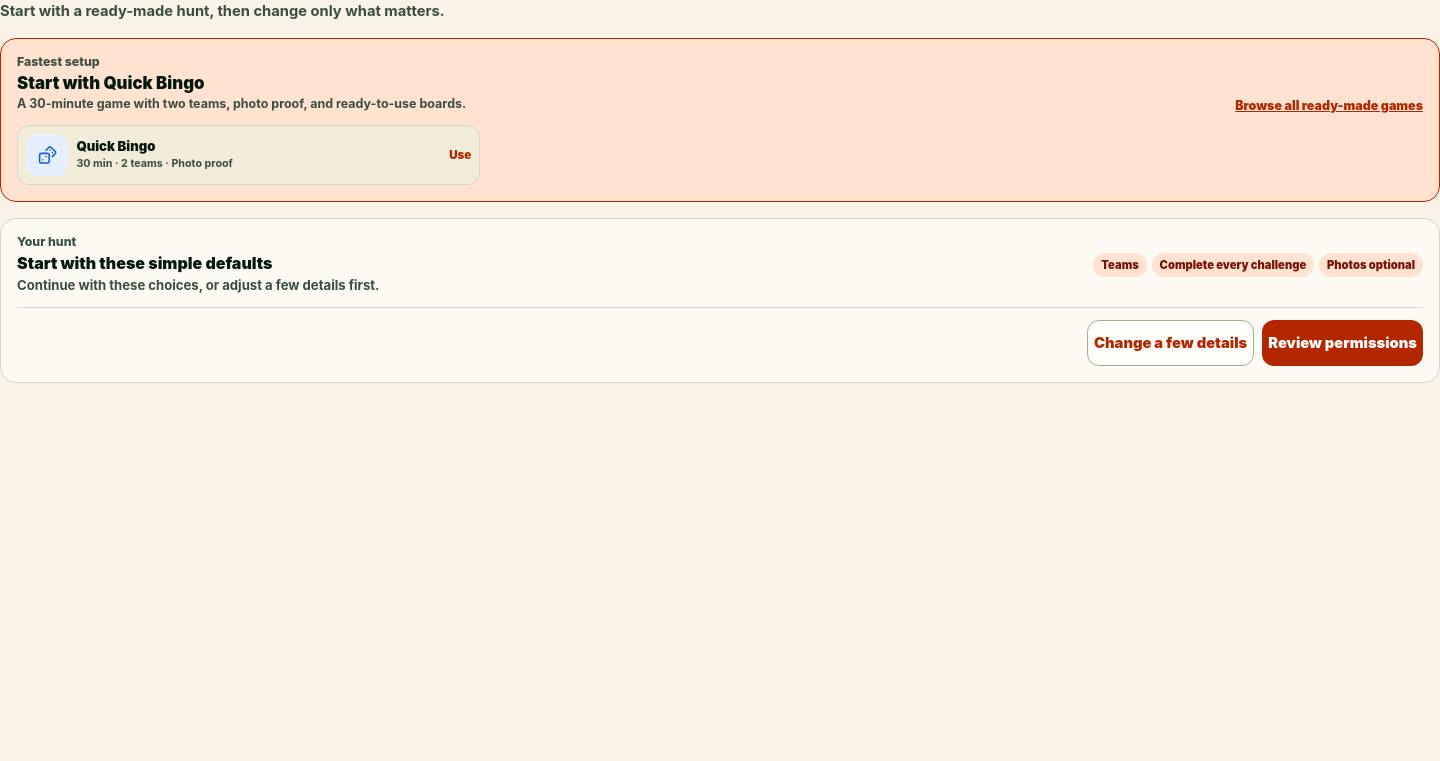
Scenario: focused interaction accessibility › discards unsaved custom settings when the host cancels
Click the button "Change a few details" at x=1171, y=343, box [1087,320,1254,366]
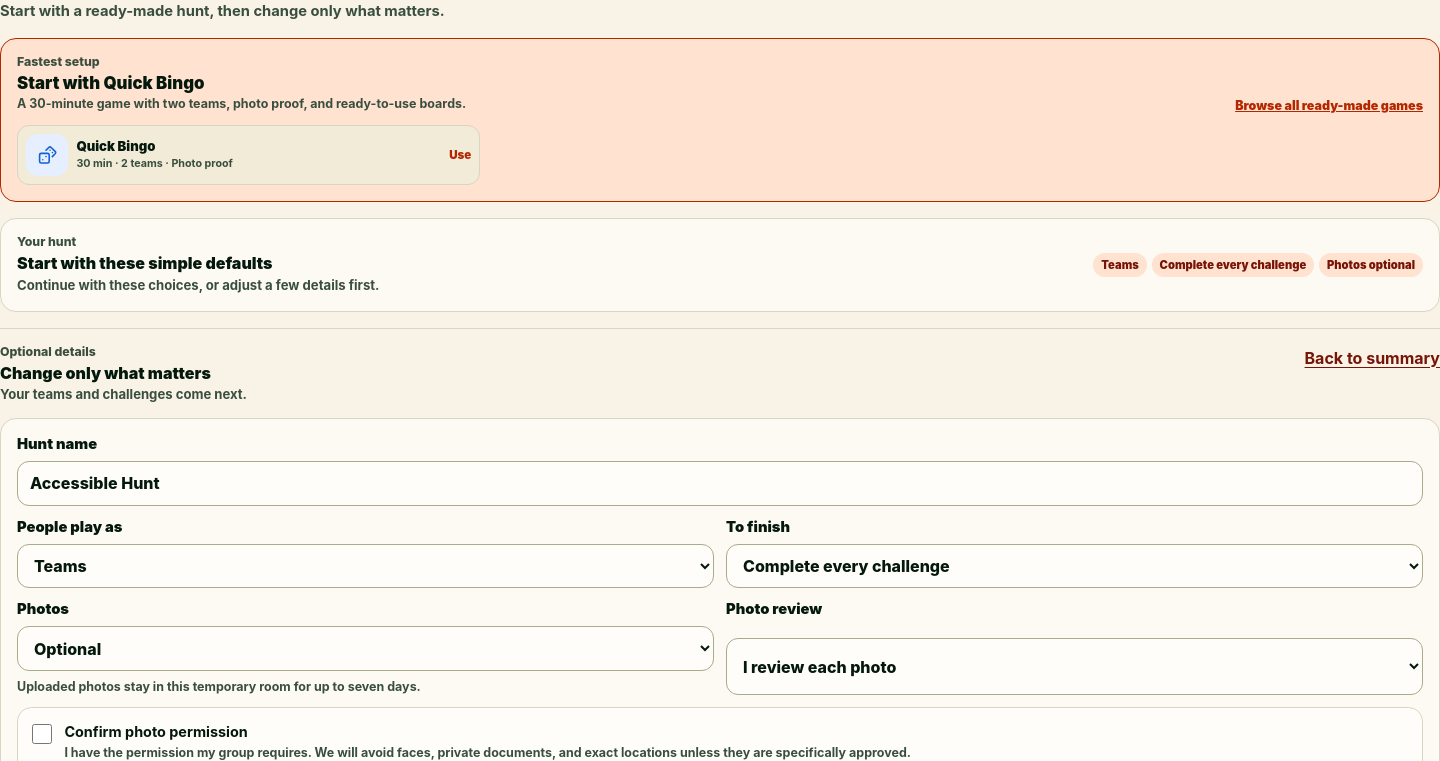
Select "Individuals" in the dropdown labelled "People play as" at x=366, y=566, box [17,544,714,588]
(page scrolled)
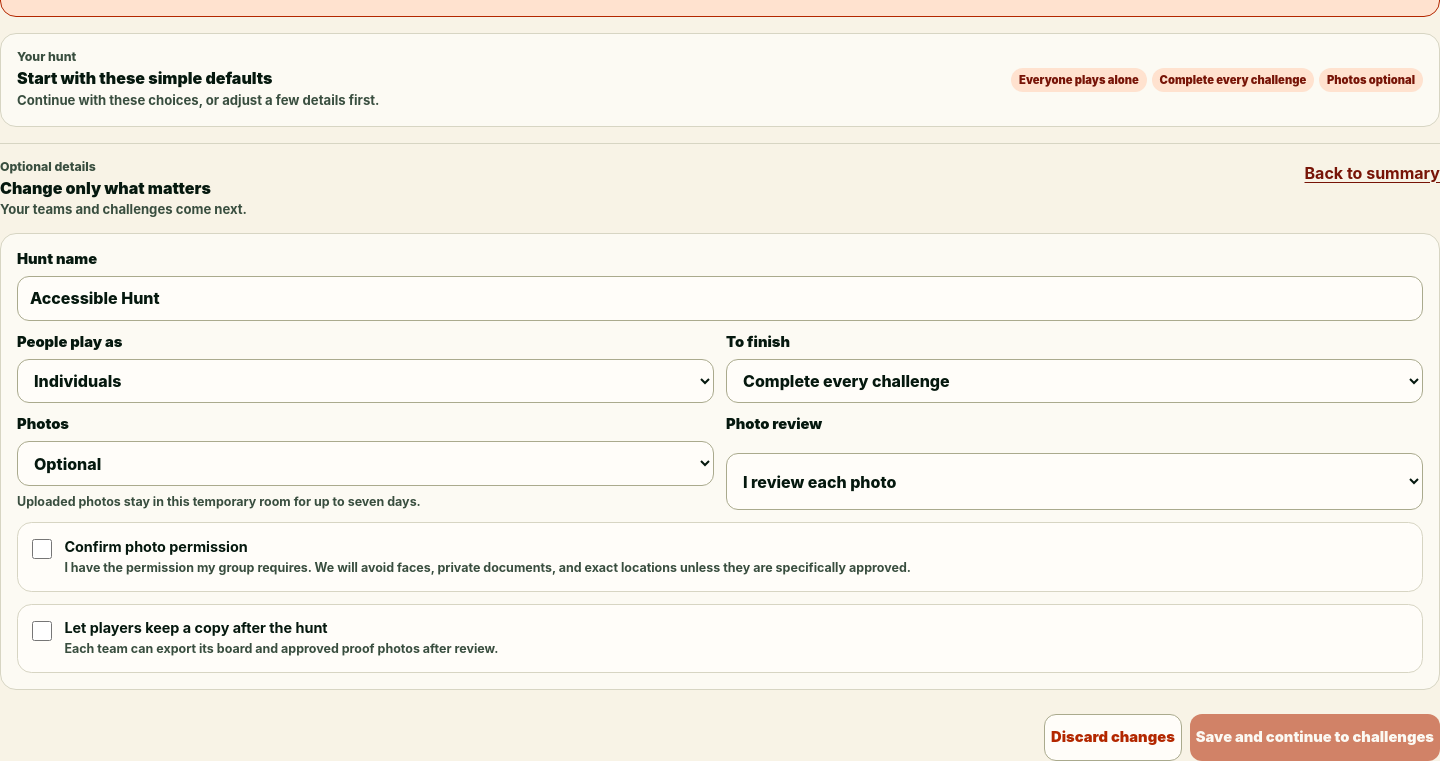
Click the button "Discard changes" at x=1113, y=737, box [1044,714,1182,760]
(page scrolled)
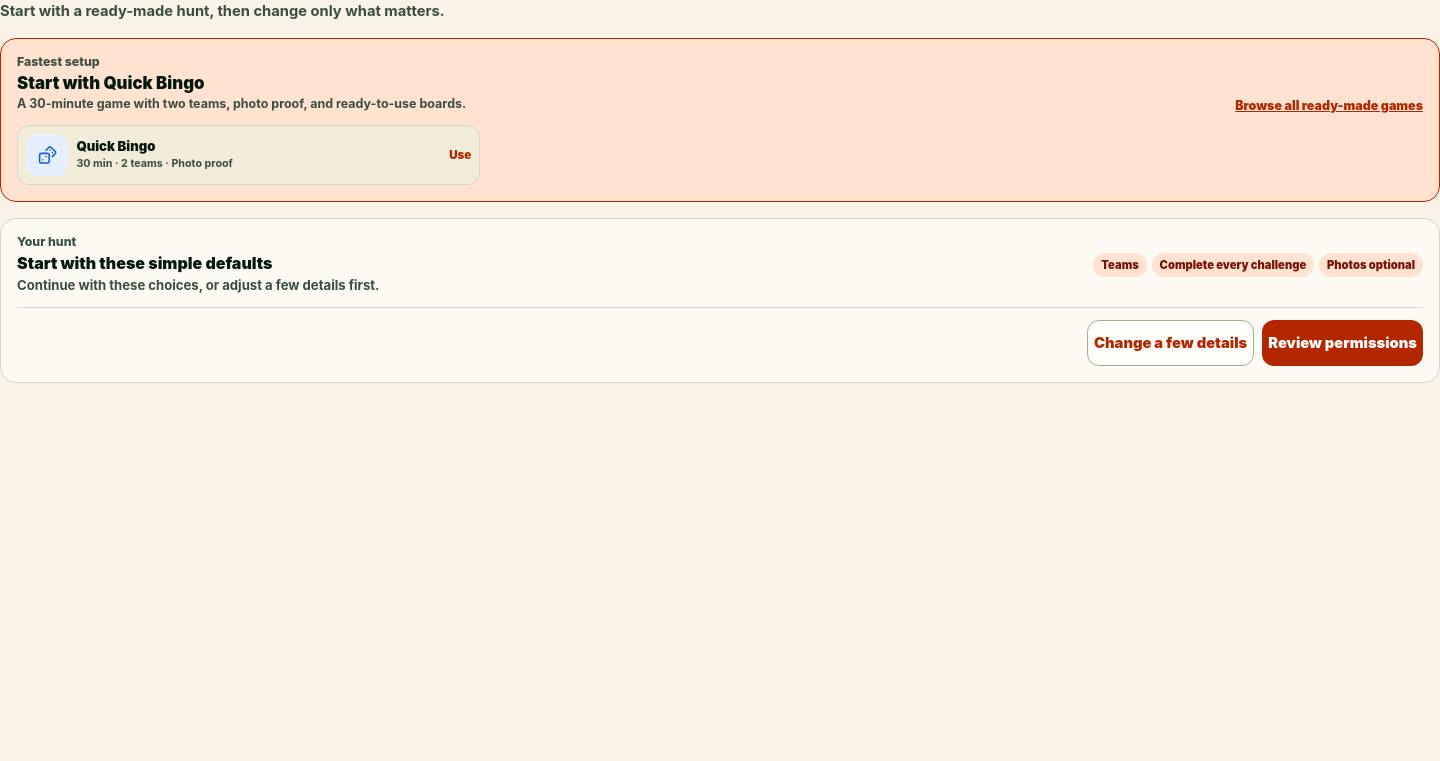
Click the button "Change a few details" at x=1171, y=343, box [1087,320,1254,366]
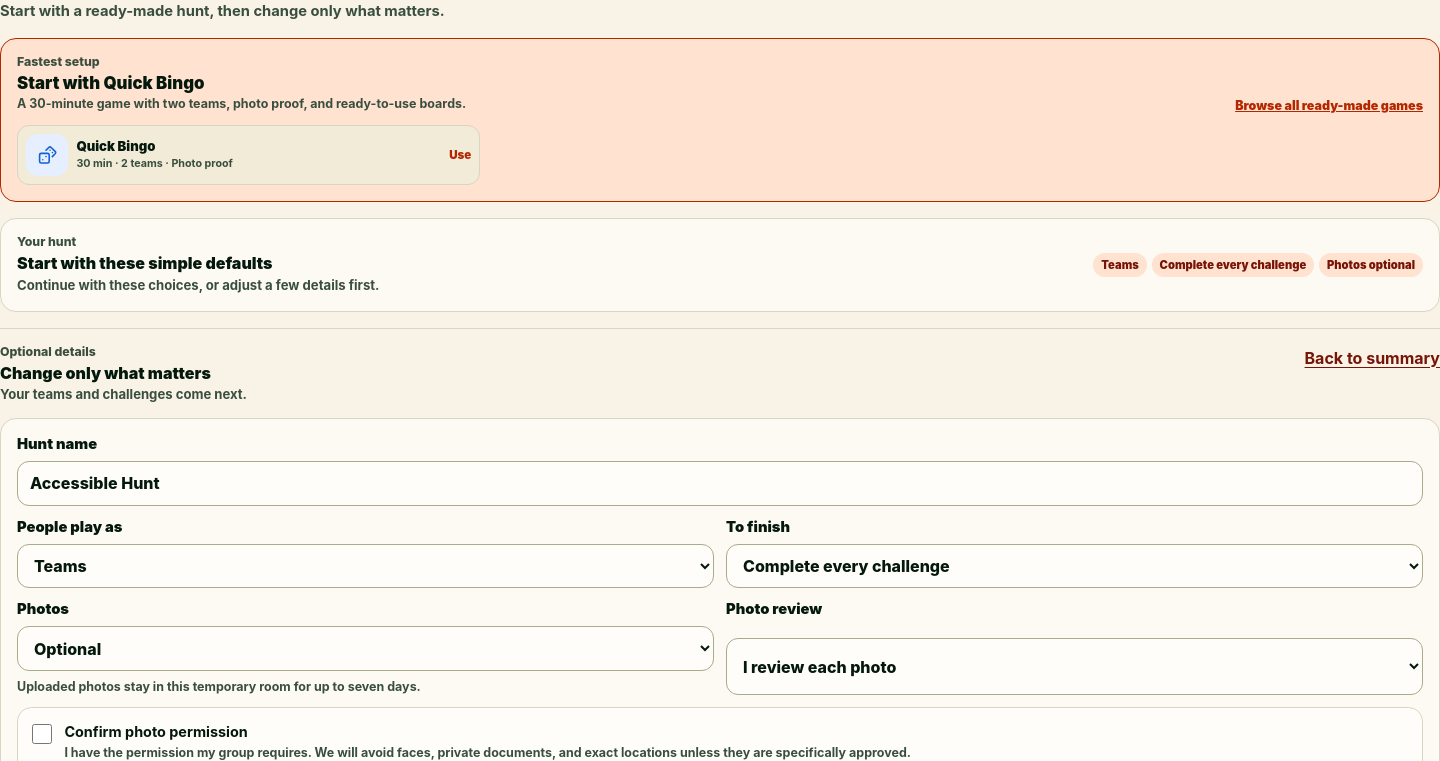
Check: the dropdown labelled "People play as" shows "Teams", box [17,544,714,588]
